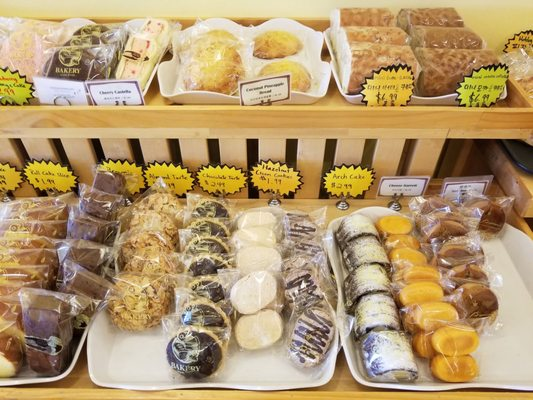curry: (0, 179, 533, 396)
salad: (354, 292, 403, 334), (396, 281, 446, 308), (389, 246, 429, 266)
sushi: (324, 24, 416, 99), (363, 62, 416, 107)
